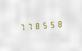eight: (34, 20, 41, 30), (58, 18, 65, 28)
five: (42, 19, 49, 30), (50, 19, 57, 29)
seven: (17, 22, 24, 32), (25, 21, 32, 31)
